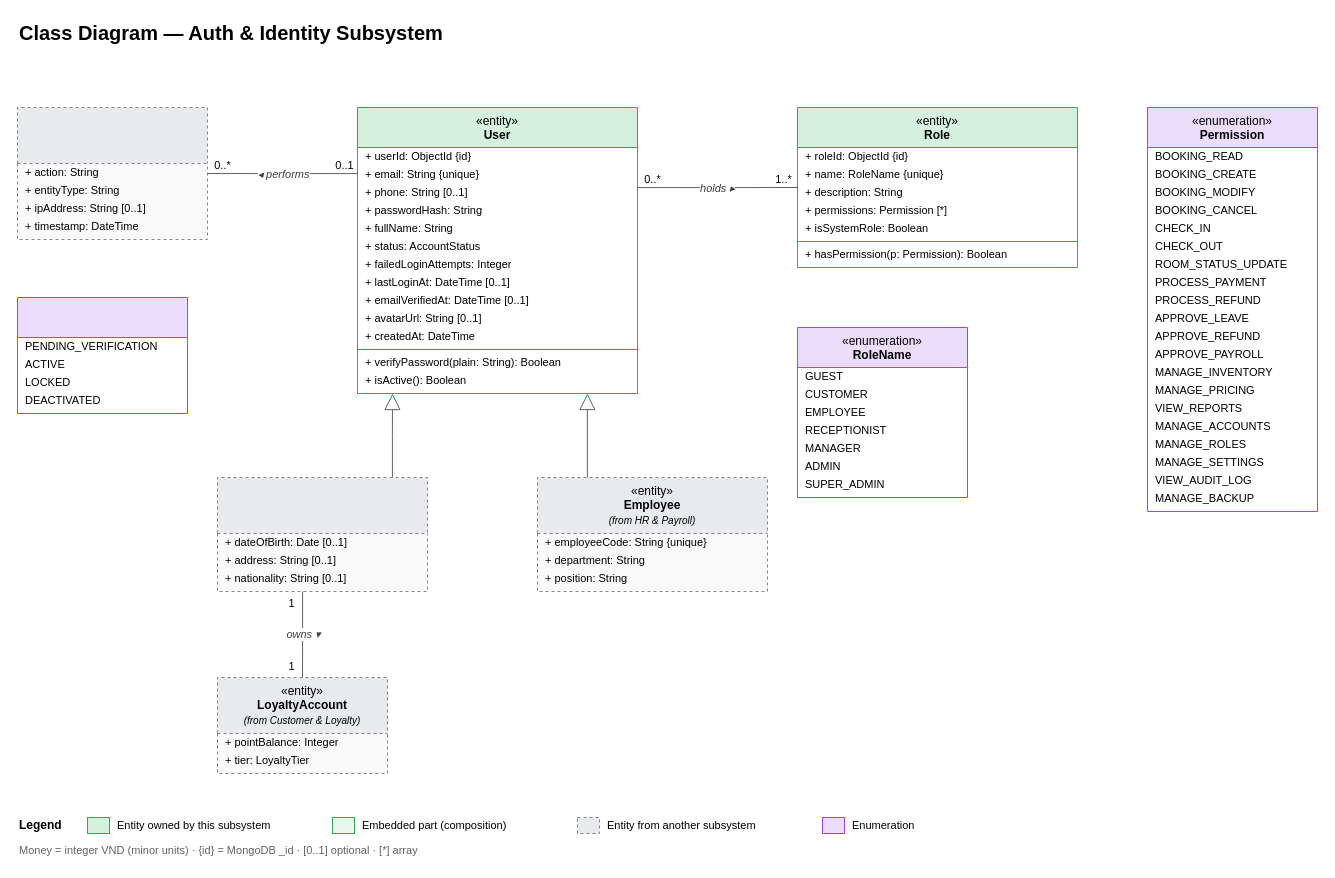
The diagram is 1335 pixels wide and 878 high, and some of its shapes have lost their labels. The shapes that lost their labels are listed below. From the top down, each one's box as (x1, y1, x2, y2) in pixels, then its label:
(16, 106, 208, 240): «entity» AuditLog (from Administration & Audit)
(16, 296, 188, 414): «enumeration» AccountStatus
(216, 476, 428, 592): «entity» Customer (from Customer & Loyalty)
